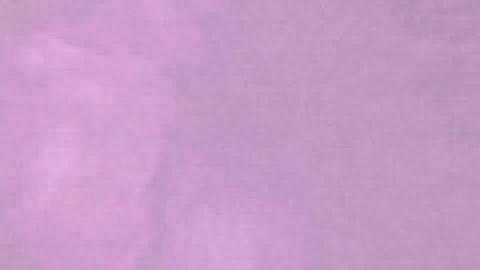tomato: (107, 119, 372, 269), (3, 119, 107, 269), (373, 125, 477, 269)
